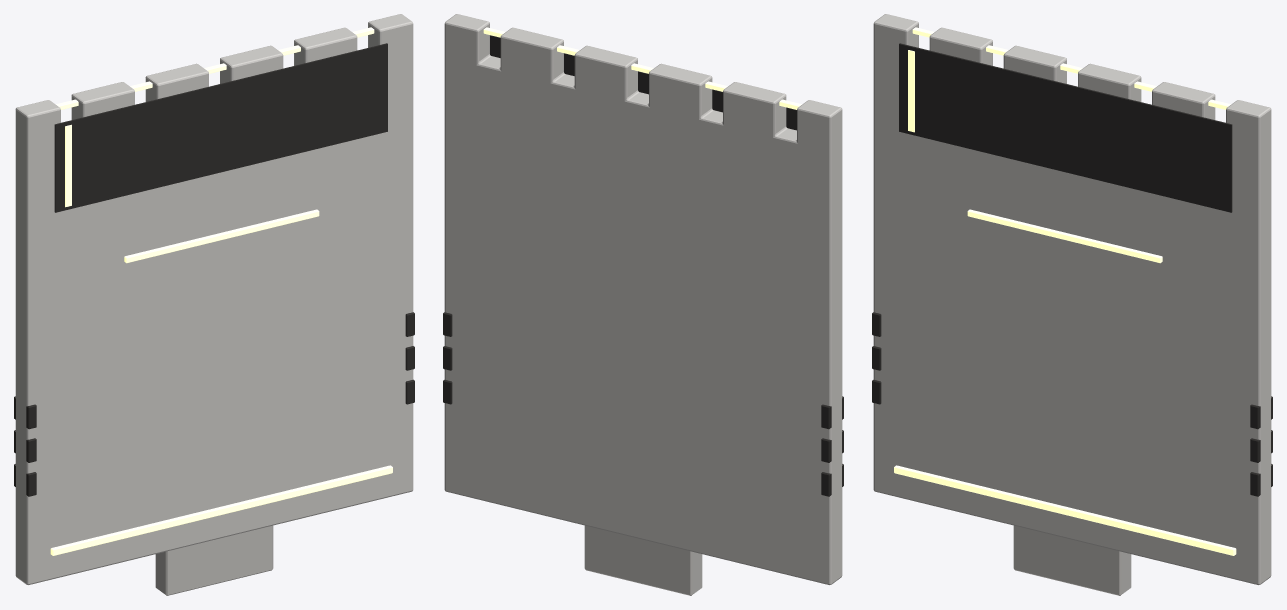
Rendered from server_fs.glb.
The picture shows the model from 3 angles, left to right: view 1: azimuth 30°, elevation 25°; view 2: azimuth 150°, elevation 25°; view 3: azimuth 330°, elevation 25°; orthographic projection.
Visible parts, largest first — view 1: GEO_Server_Card.002, GEO_Server_LabelSlot.002, GEO_Server_Plug.002, GEO_Server_Strip.002, GEO_Server_Strip_B, GEO_Server_Strip_Top.002, GEO_Server_LabelTick.002; view 2: GEO_Server_Card.002, GEO_Server_Plug.002, GEO_Server_LabelSlot.002, GEO_Server_Strip_Top.002; view 3: GEO_Server_Card.002, GEO_Server_LabelSlot.002, GEO_Server_Plug.002, GEO_Server_Strip.002, GEO_Server_Strip_B, GEO_Server_Strip_Top.002, GEO_Server_LabelTick.002.
Boxes of the visible parts, left/top/right/bottom form: GEO_Server_Card.002: left=15, top=14, right=413, bottom=585; GEO_Server_LabelSlot.002: left=54, top=43, right=387, bottom=212; GEO_Server_Plug.002: left=155, top=525, right=273, bottom=595; GEO_Server_Strip.002: left=50, top=465, right=392, bottom=555; GEO_Server_Strip_B: left=124, top=209, right=319, bottom=263; GEO_Server_Strip_Top.002: left=56, top=27, right=374, bottom=109; GEO_Server_LabelTick.002: left=65, top=124, right=71, bottom=207; GEO_Server_Card.002: left=444, top=14, right=842, bottom=585; GEO_Server_Plug.002: left=584, top=525, right=702, bottom=595; GEO_Server_LabelSlot.002: left=490, top=35, right=796, bottom=130; GEO_Server_Strip_Top.002: left=483, top=27, right=801, bottom=109; GEO_Server_Card.002: left=873, top=14, right=1271, bottom=585; GEO_Server_LabelSlot.002: left=899, top=43, right=1232, bottom=212; GEO_Server_Plug.002: left=1013, top=525, right=1131, bottom=595; GEO_Server_Strip.002: left=894, top=465, right=1236, bottom=555; GEO_Server_Strip_B: left=967, top=209, right=1162, bottom=263; GEO_Server_Strip_Top.002: left=912, top=27, right=1230, bottom=109; GEO_Server_LabelTick.002: left=908, top=50, right=914, bottom=132.
Size of the model in its own units: 0.36 by 0.458 by 0.0258.
